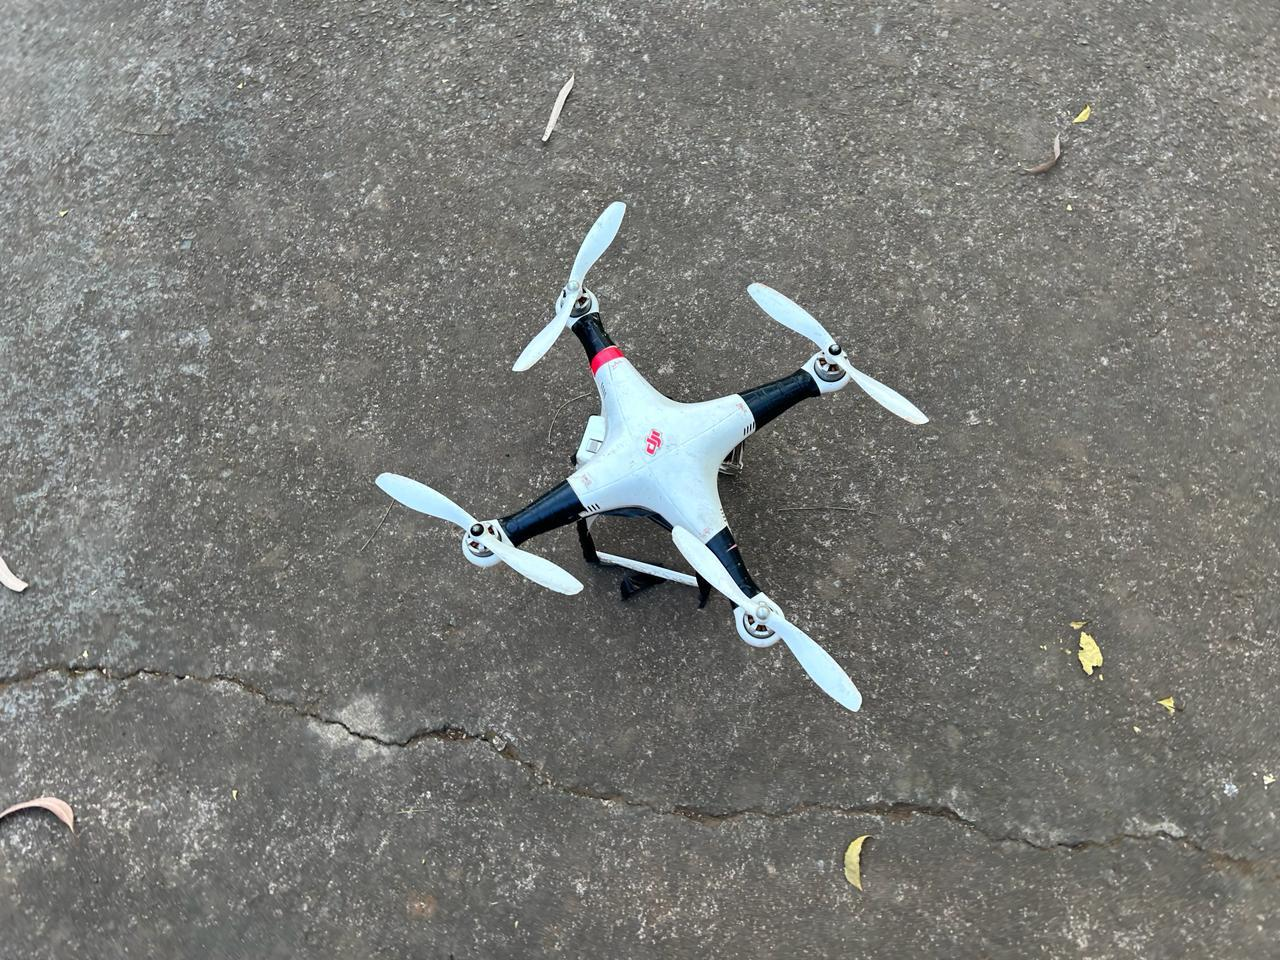drone: (312, 118, 1049, 806)
